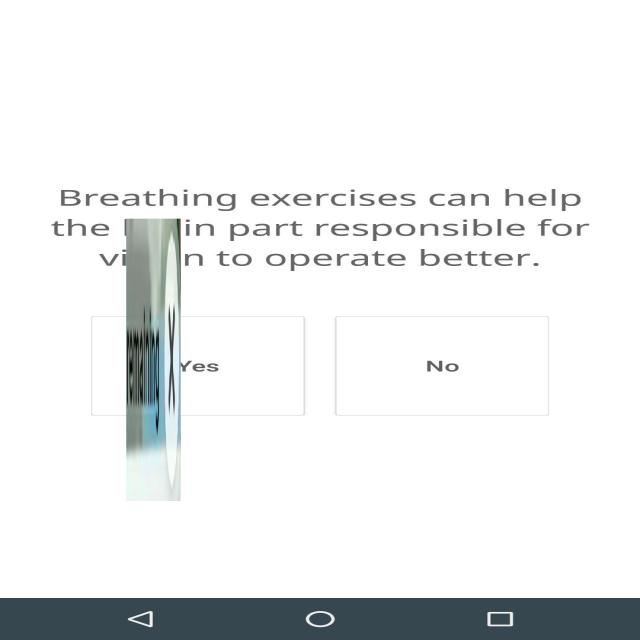misdirection: (126, 219, 181, 501)
